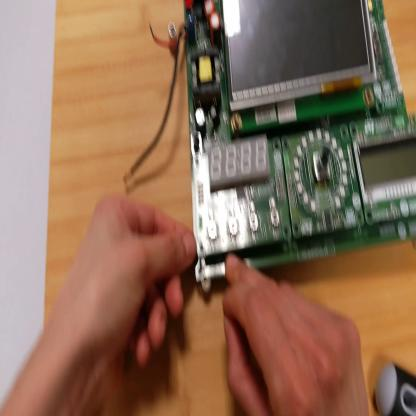hand: (51, 192, 196, 381), (221, 253, 372, 416)
low voltage board: (127, 2, 415, 293)
screwdriver-: (375, 361, 415, 414)
working area: (47, 2, 416, 414)
